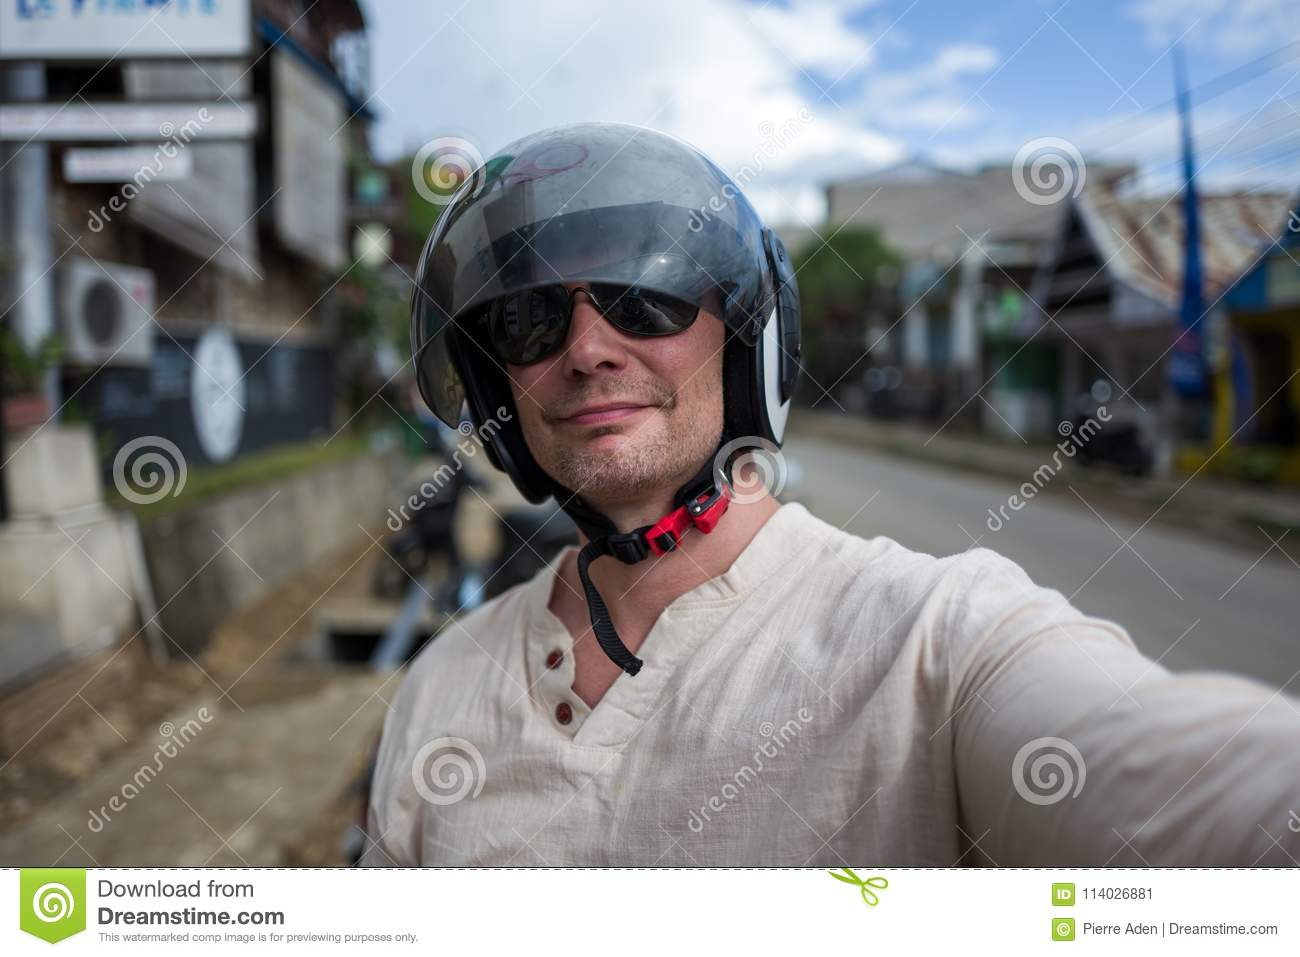helmet: (408, 146, 830, 474)
